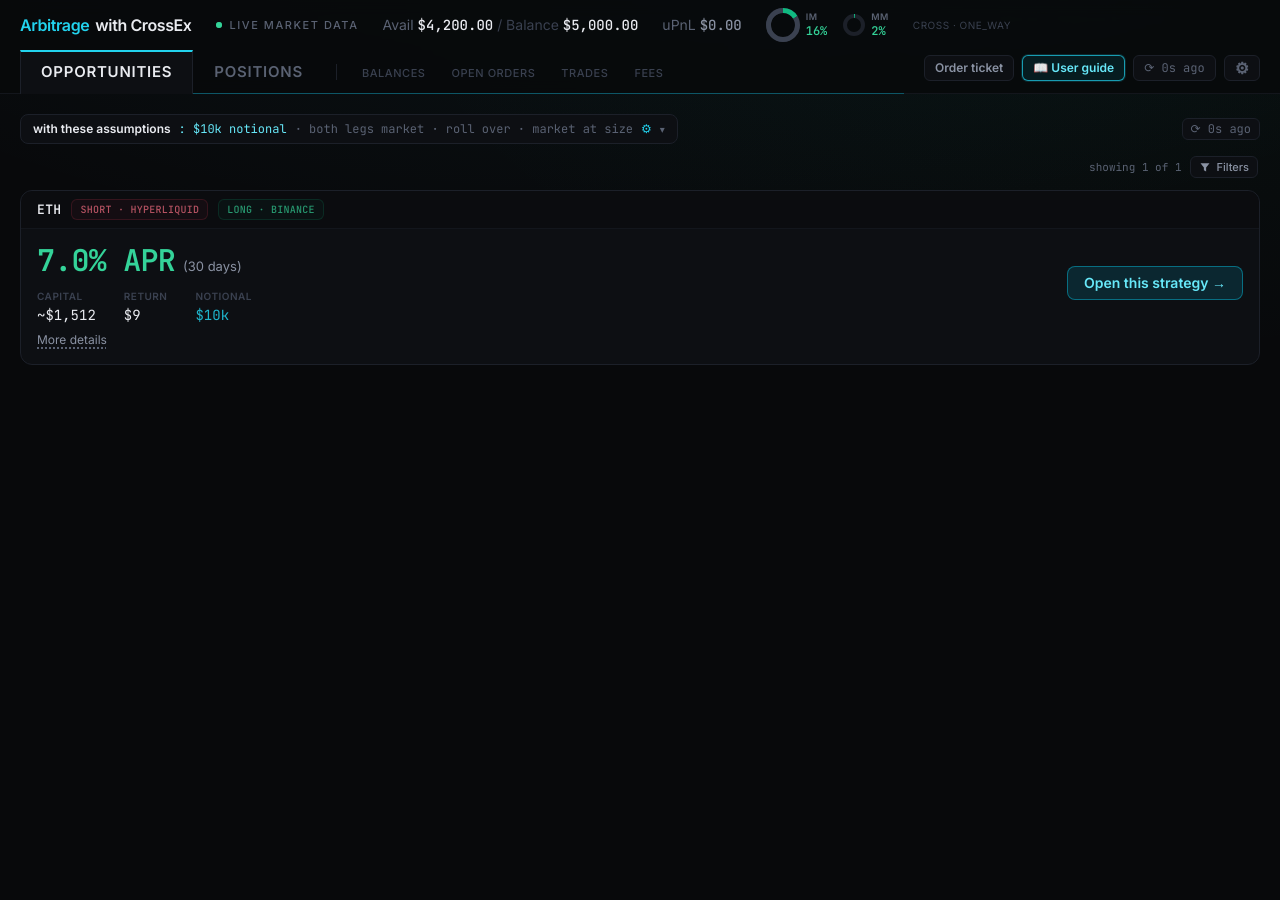
Test case: user guide › keeps ordered-list numbering when a list is interrupted
Expected: the element named "Sections" is shown, [20, 50, 676, 94]
Click the button "📖 User guide": (1074, 68) [1022, 55, 1125, 81]
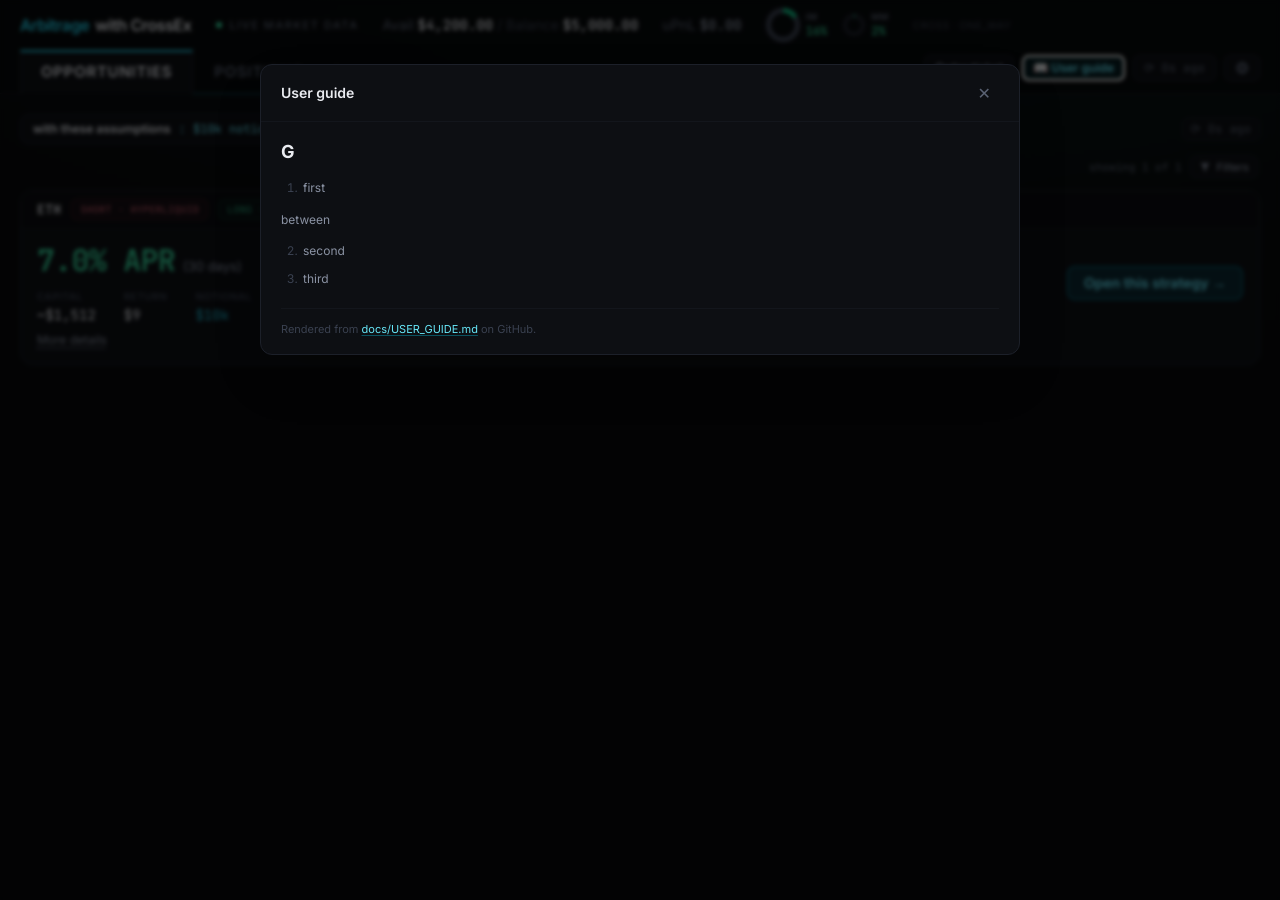
Expected: the list item "second" is shown, [303, 243, 345, 258]
Expected: the number of lists is 2, [303, 180, 325, 195]; [303, 243, 345, 286]
